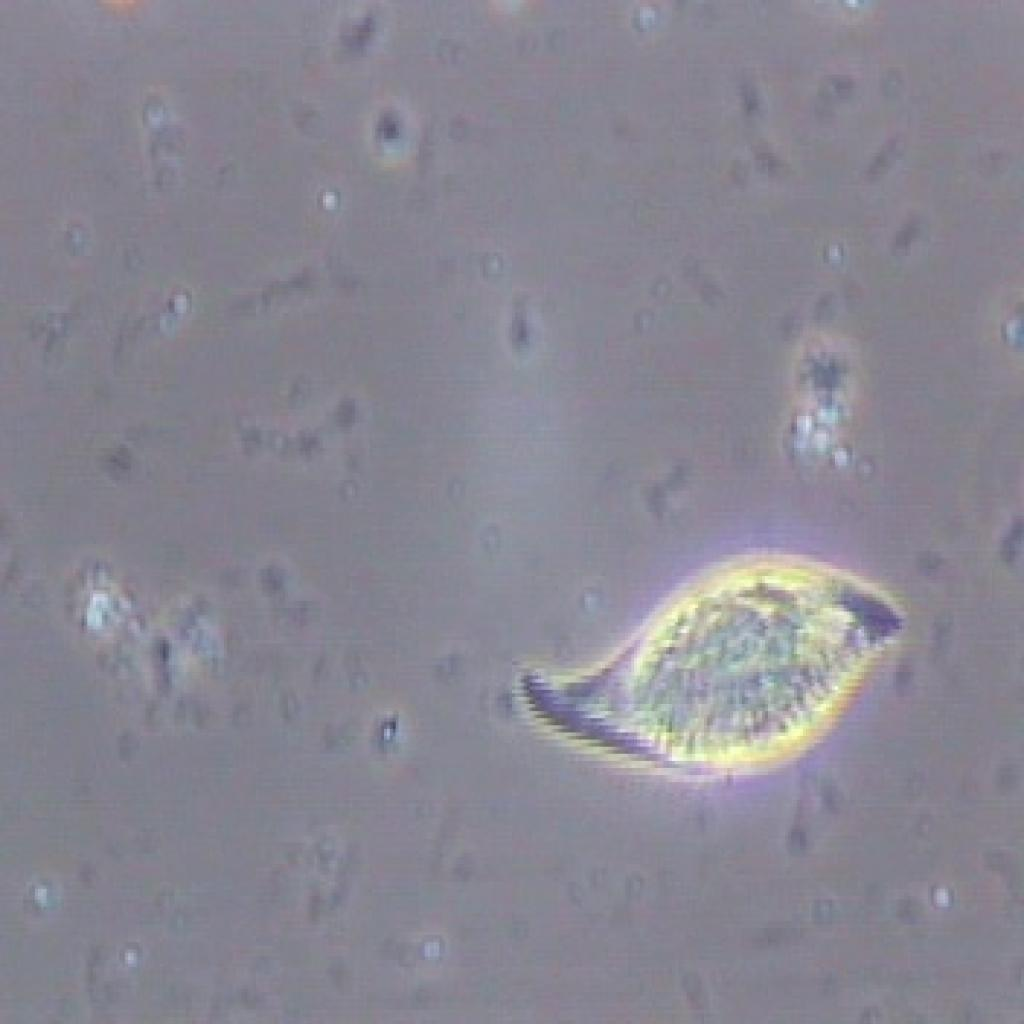Pristina: (484, 505, 915, 821)
